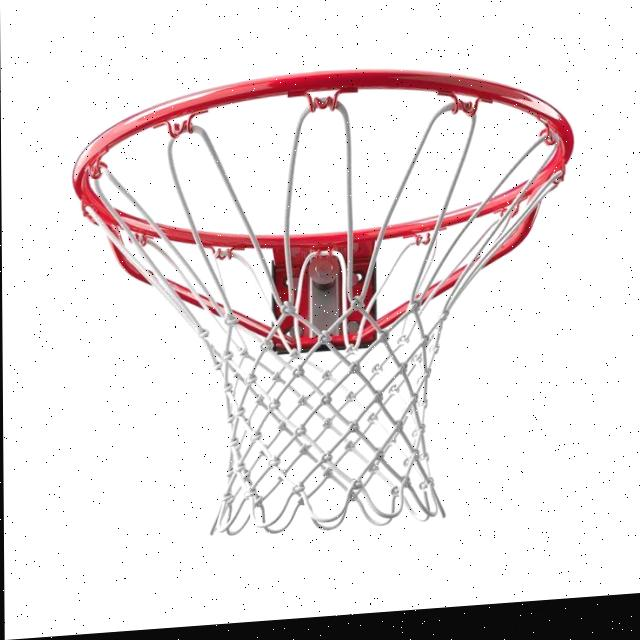hoop: (104, 68, 580, 582)
